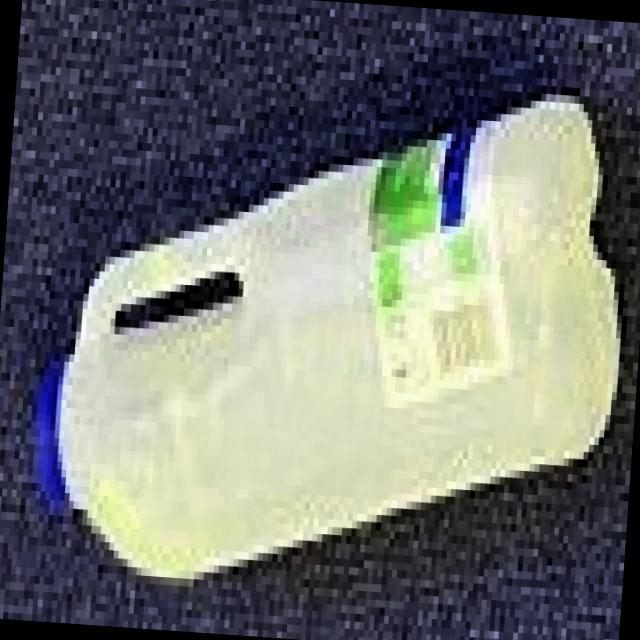HDPE Plastic: (28, 84, 629, 592)
